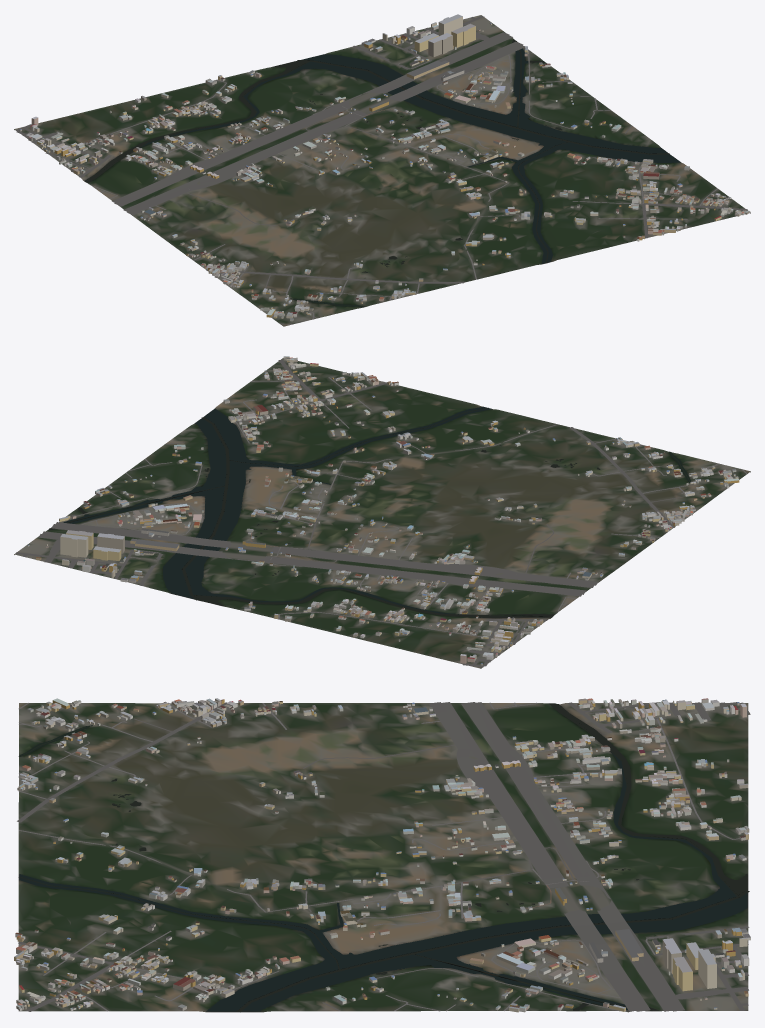
3 renders of one model, top to bottom at view 1: azimuth 30°, elevation 25°; view 2: azimuth 150°, elevation 25°; view 3: azimuth 270°, elevation 25°, orthographic. The views are drawn at different scales.
Parts seen in each view (by area): view 1: ground, buildings, roads, water; view 2: ground, buildings, roads, water; view 3: ground, buildings, roads, water.
Part boxes in pixels (<box>): ground: <box>14,15,750,326</box>; buildings: <box>19,14,750,321</box>; roads: <box>16,16,747,324</box>; water: <box>85,39,680,307</box>; ground: <box>14,358,750,668</box>; buildings: <box>27,356,739,665</box>; roads: <box>16,359,747,667</box>; water: <box>47,406,690,618</box>; ground: <box>18,702,748,1012</box>; buildings: <box>14,698,750,1012</box>; roads: <box>17,702,750,1011</box>; water: <box>18,703,749,1012</box>.
Bounding box in the file's own units: 1414 × 56.92 × 1415.
